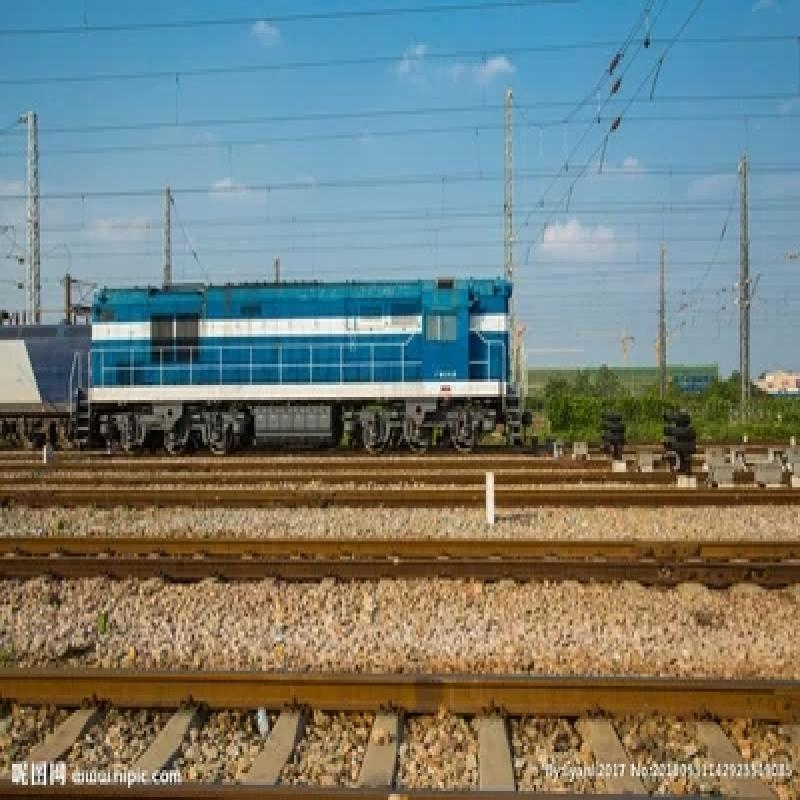train: (89, 272, 531, 458)
